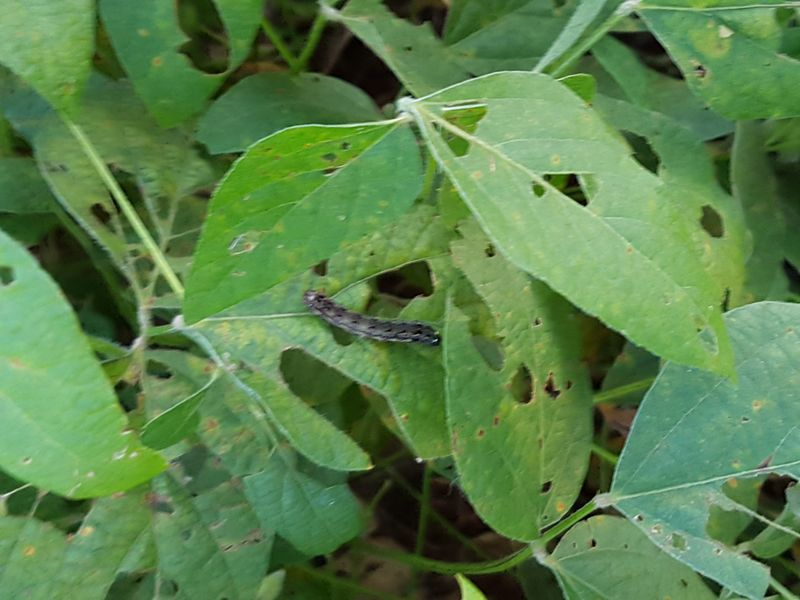Spodoptera_albula: (289, 277, 452, 374)
